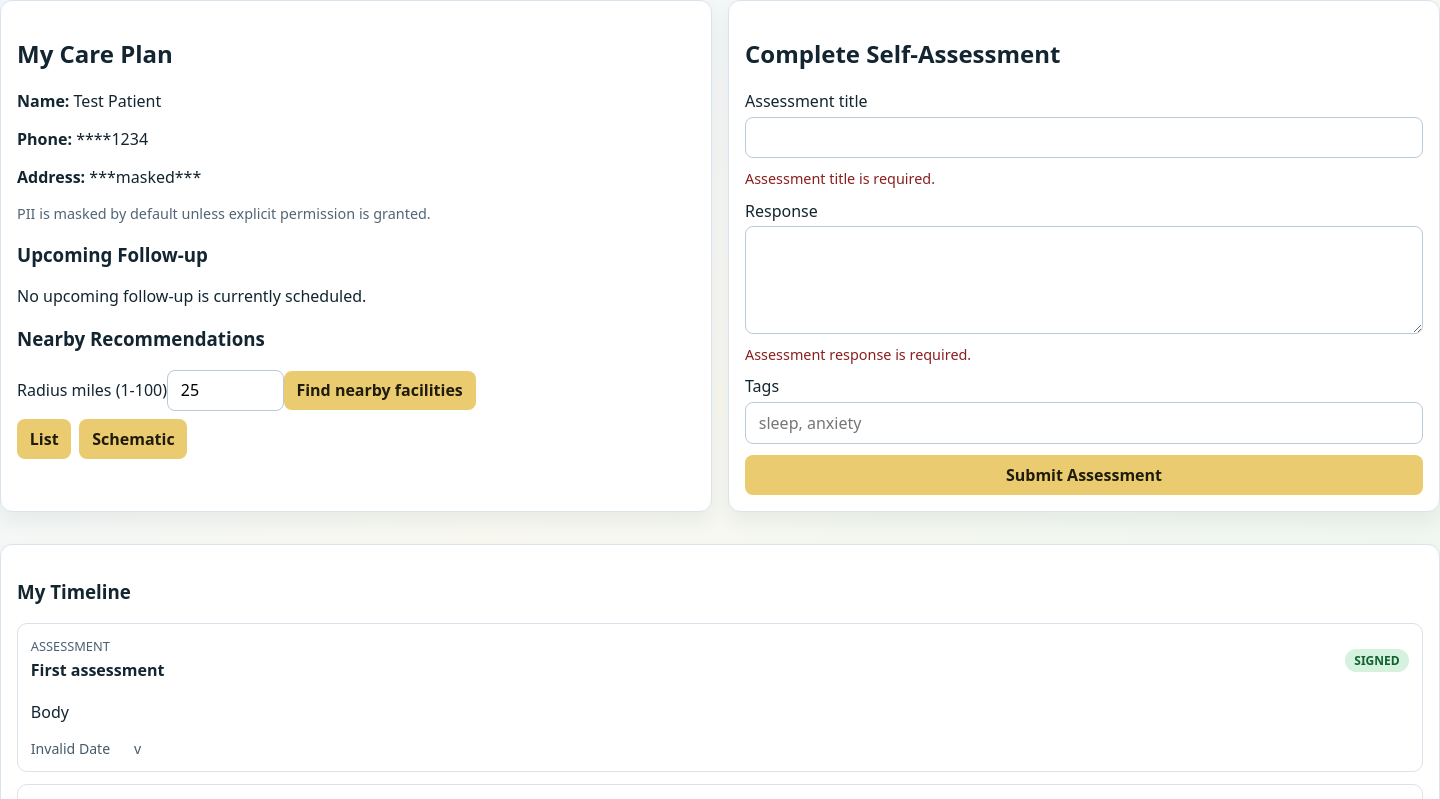
Scenario: ClientModule — nearby facilities › shows error message when fetchNearbyFacilities fails
Click the button "Find nearby facilities".
click(380, 390)  # box [284, 371, 476, 410]
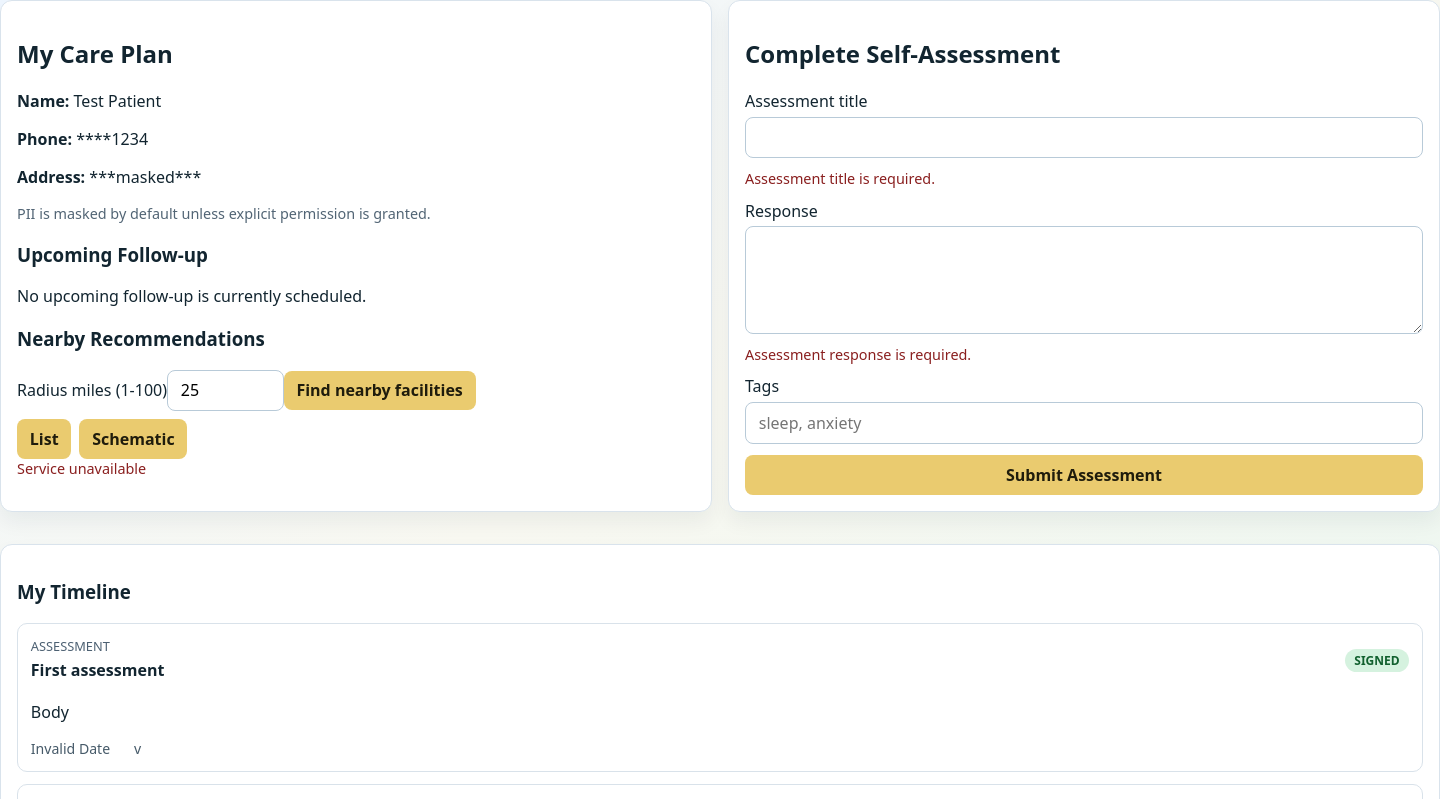
expect the text "Service unavailable" is shown: met, box [17, 459, 146, 478]
